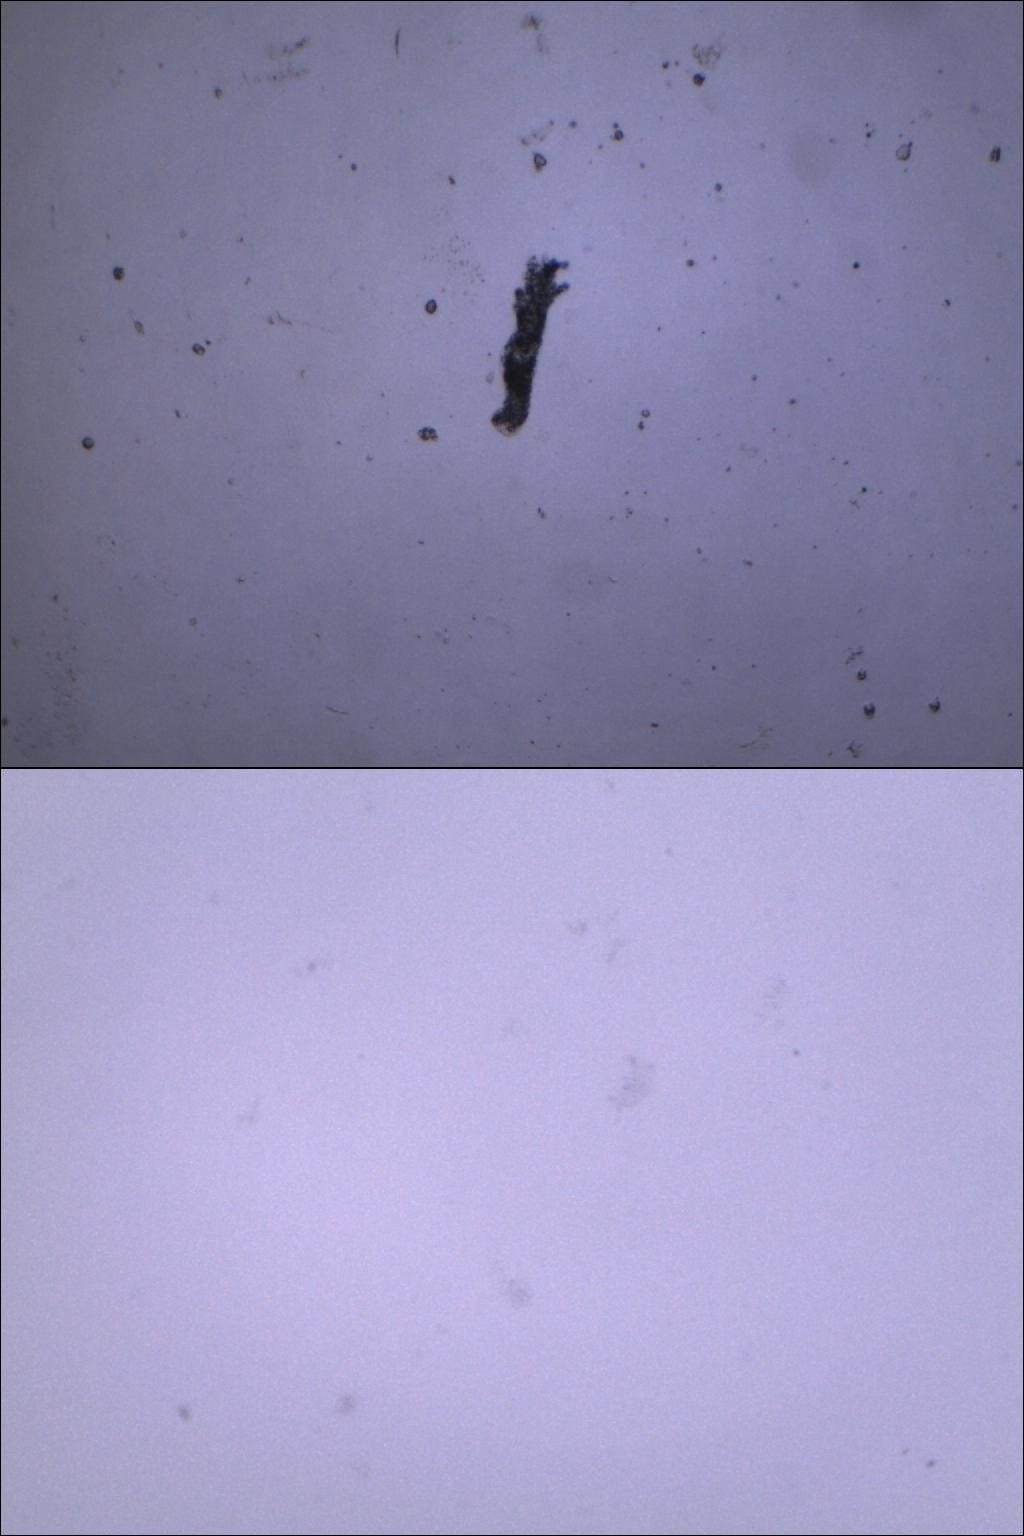N.Fowleri Amoeba: (587, 1034, 673, 1142)
Proteus Amoeba: (478, 245, 582, 459)
